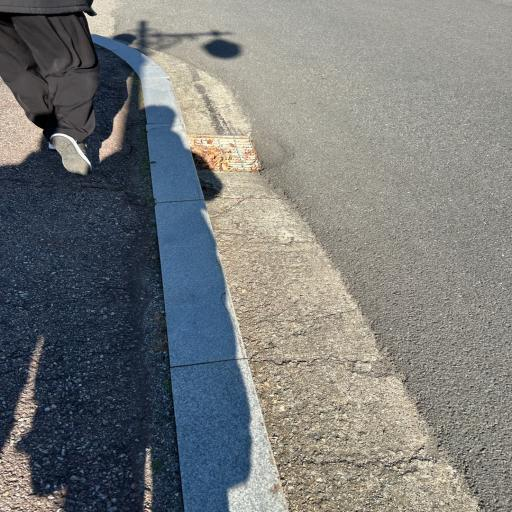debris: (192, 135, 241, 172), (243, 139, 256, 160), (249, 155, 262, 171)
drain: (191, 135, 264, 171)
